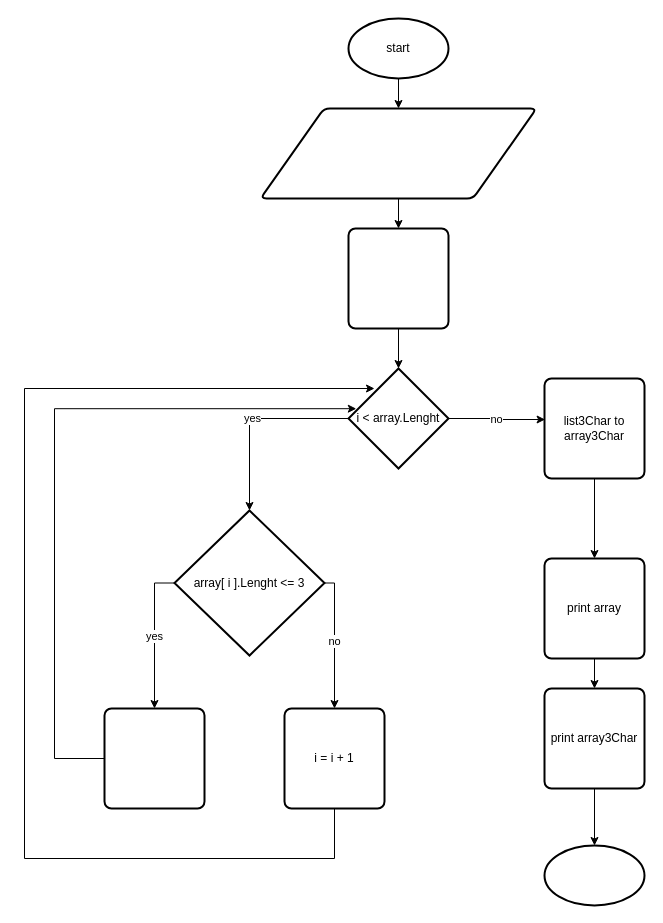
Image size: 663x923. Some labels were removed from this diagram. The shapes that lost their labels are listed below. From the top down, each one's box as (x1, y1, x2, y2) in pixels, then its label:
(259, 107, 537, 199): list array = empty list3Char = empty array3Char = empty i = 0
(347, 227, 449, 329): list to array
(103, 707, 205, 809): i = i + 1 array[ i ] add to list3Char
(543, 844, 645, 906): end
